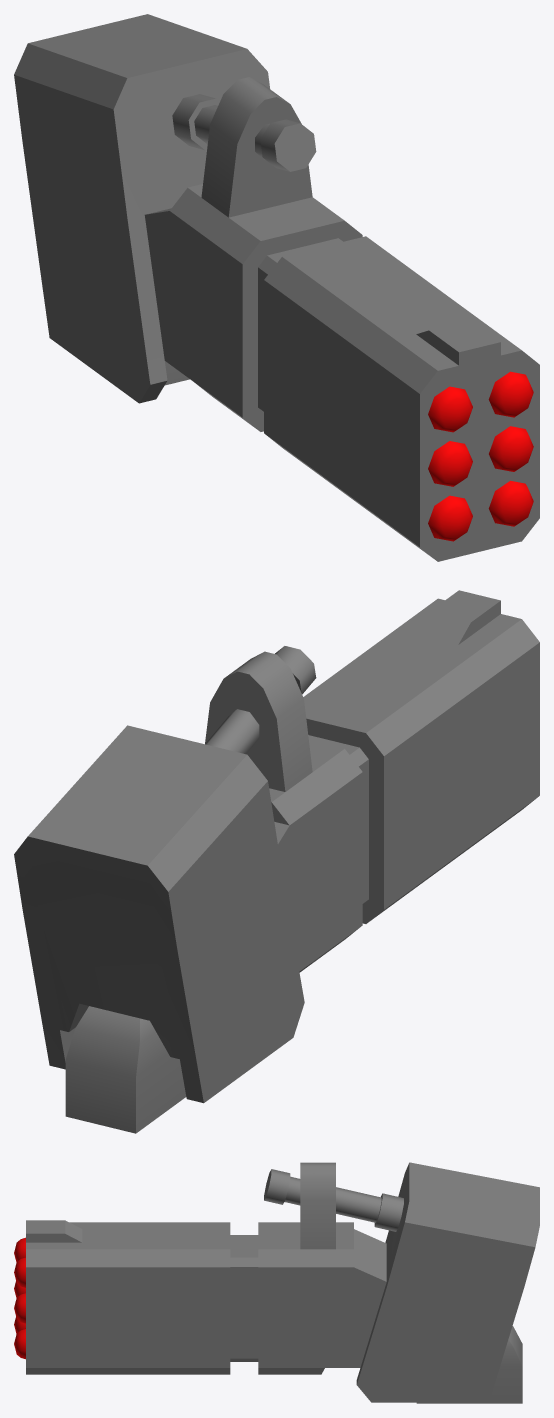
Rendered from MissileLauncher.obj.
3 views of the same model, one above another, from view 1: azimuth 30°, elevation 25°; view 2: azimuth 150°, elevation 25°; view 3: azimuth 270°, elevation 25° (orthographic). The views are drawn at different scales.
Visible parts, largest first — view 1: MissileLauncher TheCube Launcher; view 2: MissileLauncher TheCube Launcher, Base MissileLauncher TheCube; view 3: MissileLauncher TheCube Launcher, Base MissileLauncher TheCube.
Part boxes in pixels (x1,y1,x2,y2): MissileLauncher TheCube Launcher: [14, 14, 539, 561]; MissileLauncher TheCube Launcher: [14, 590, 539, 1103]; Base MissileLauncher TheCube: [65, 1006, 186, 1133]; MissileLauncher TheCube Launcher: [14, 1162, 539, 1402]; Base MissileLauncher TheCube: [416, 1326, 522, 1403].
Size of the model in its own units: 2.75 by 5.92 by 12.38.
